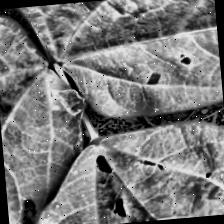ALS: (10, 0, 223, 123), (29, 117, 224, 224), (0, 12, 96, 224)
